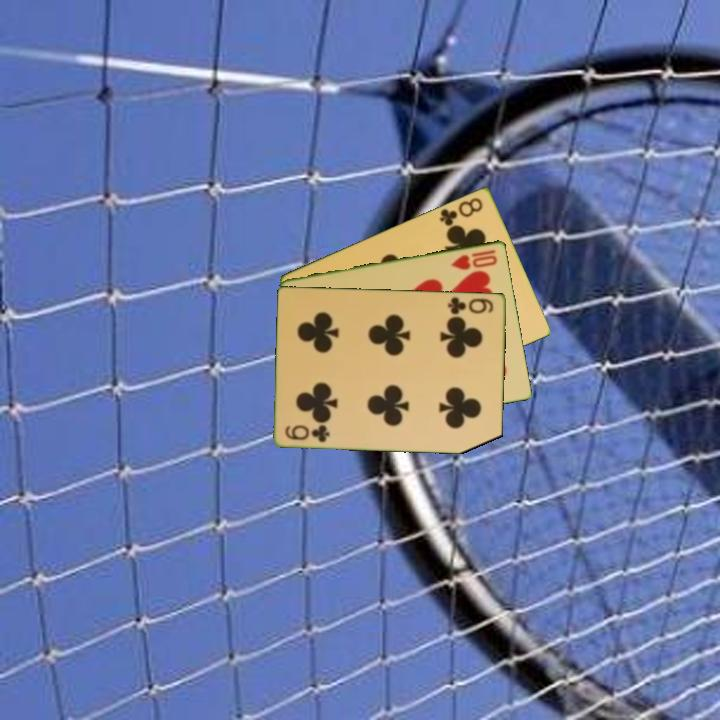10h: (447, 246, 500, 273)
6c: (444, 293, 496, 317), (281, 421, 333, 445)
8c: (436, 194, 486, 231)
